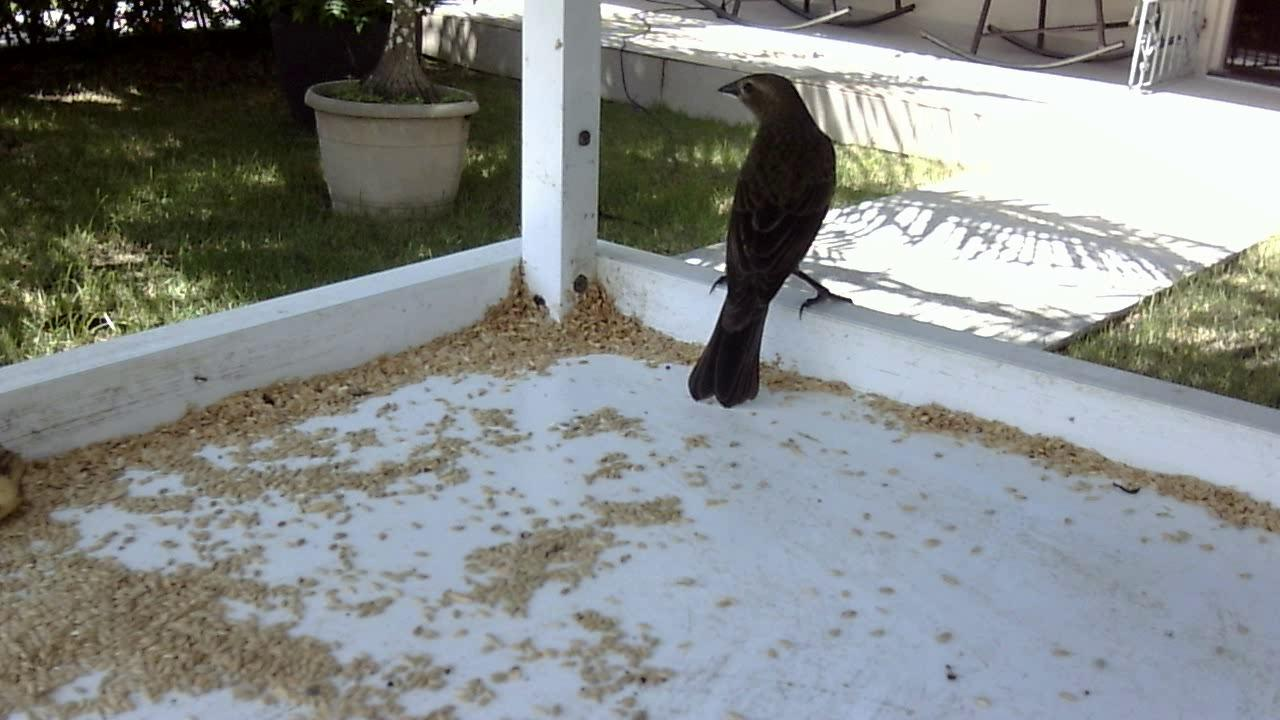chupim: (674, 66, 865, 414)
